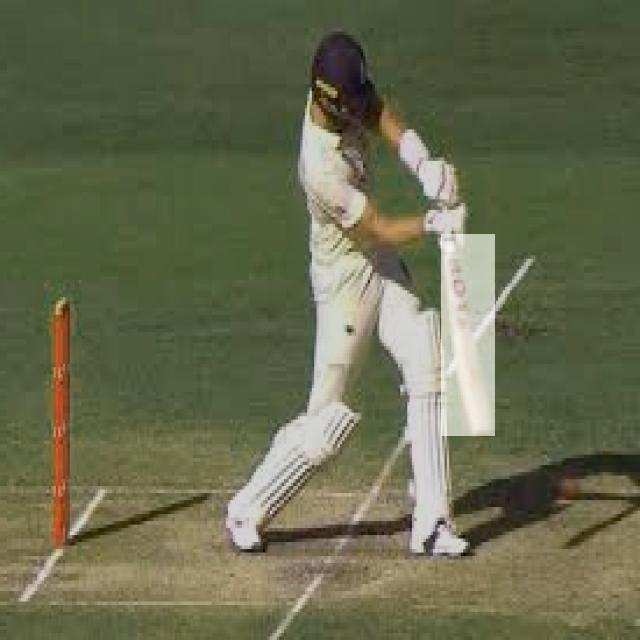bat: (440, 234, 498, 437)
toe: (457, 419, 493, 434)
